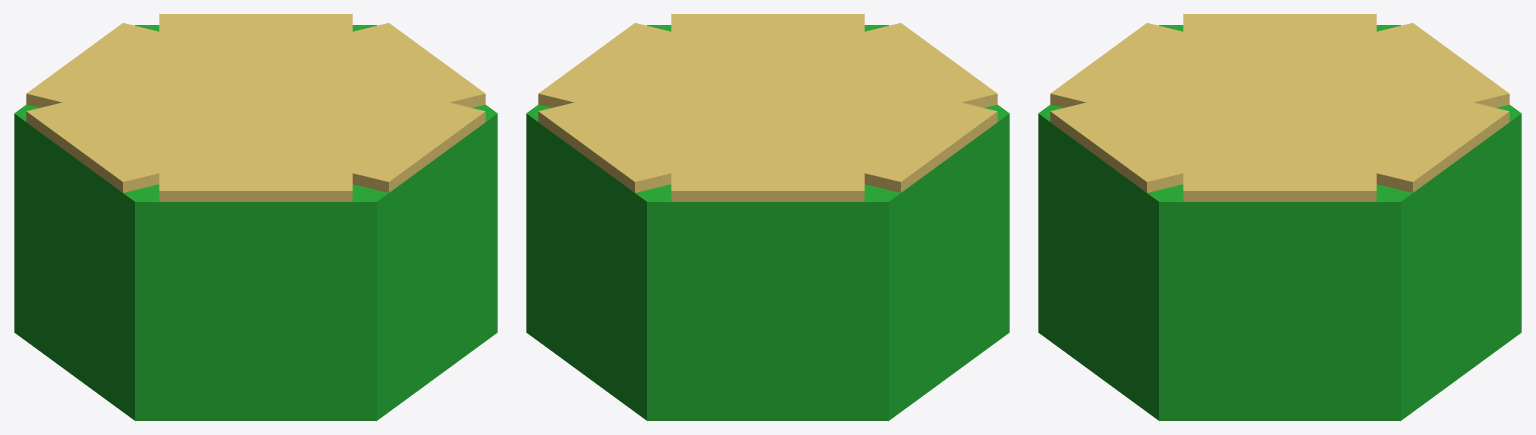
Rendered from path-full_corner.glb.
3 views of the same model, side by side, from view 1: azimuth 30°, elevation 25°; view 2: azimuth 150°, elevation 25°; view 3: azimuth 270°, elevation 25° (orthographic).
Parts seen in each view (by area): view 1: path-full_corner; view 2: path-full_corner; view 3: path-full_corner.
Part boxes in pixels (box(x1,y1,x2,y2)): path-full_corner: box(14, 14, 497, 420); path-full_corner: box(526, 14, 1009, 420); path-full_corner: box(1038, 14, 1521, 420).
Size of the model in its own units: 0.866 by 0.525 by 1.
